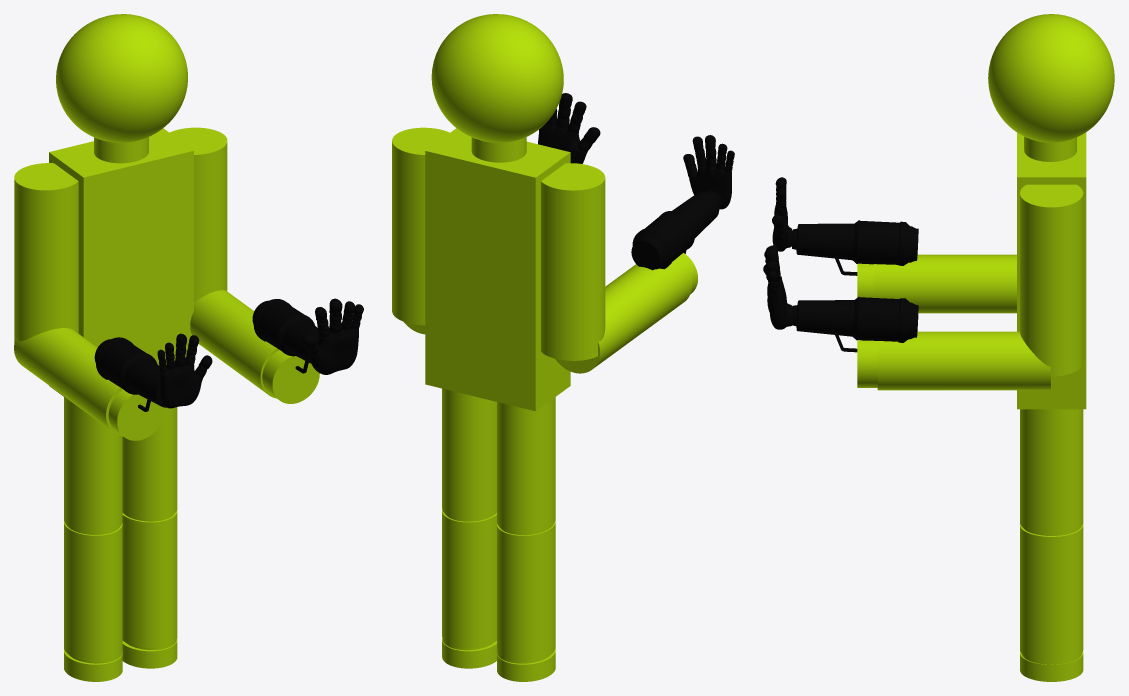
File: poppy_playtime__training_dummy__player.glb
3 views of the same model, side by side, from view 1: azimuth 30°, elevation 25°; view 2: azimuth 150°, elevation 25°; view 3: azimuth 270°, elevation 25° (orthographic).
Visible parts, largest first — view 1: node_id36_37, node_id27_28, node_id30_31, node_id15_14, node_id12_12, node_id42_32, node_id33_33, node_id81_57, node_id45_41, node_id85_60, node_id77_23, node_id66_51 (+7 smaller); view 2: node_id36_37, node_id27_28, node_id30_31, node_id15_14, node_id42_32, node_id12_12, node_id33_33, node_id45_41, node_id81_57, node_id66_51, node_id61_47, node_id77_23 (+3 smaller); view 3: node_id27_28, node_id33_33, node_id85_60, node_id12_12, node_id45_41, node_id81_57, node_id36_37, node_id66_51, node_id72_19, node_id77_23, node_id6_0, node_id61_47 (+3 smaller).
Part boxes in pixels (bbox=[...]): node_id36_37: bbox=[49, 128, 193, 411]; node_id27_28: bbox=[56, 14, 187, 142]; node_id30_31: bbox=[14, 163, 78, 342]; node_id15_14: bbox=[64, 521, 122, 661]; node_id12_12: bbox=[122, 510, 177, 648]; node_id42_32: bbox=[64, 397, 122, 533]; node_id33_33: bbox=[169, 127, 227, 302]; node_id81_57: bbox=[14, 328, 122, 436]; node_id45_41: bbox=[122, 407, 177, 519]; node_id85_60: bbox=[190, 290, 279, 398]; node_id77_23: bbox=[302, 298, 363, 374]; node_id66_51: bbox=[94, 337, 165, 411]; node_id36_37: bbox=[425, 128, 570, 411]; node_id27_28: bbox=[431, 14, 563, 142]; node_id30_31: bbox=[541, 163, 605, 360]; node_id15_14: bbox=[497, 521, 555, 661]; node_id42_32: bbox=[497, 397, 555, 533]; node_id12_12: bbox=[442, 510, 496, 648]; node_id33_33: bbox=[392, 127, 449, 325]; node_id45_41: bbox=[442, 388, 496, 519]; node_id81_57: bbox=[555, 257, 691, 373]; node_id66_51: bbox=[631, 192, 719, 270]; node_id61_47: bbox=[683, 135, 734, 209]; node_id77_23: bbox=[538, 93, 600, 163]; node_id27_28: bbox=[988, 14, 1114, 142]; node_id33_33: bbox=[1020, 184, 1083, 376]; node_id85_60: bbox=[877, 331, 1050, 390]; node_id12_12: bbox=[1020, 524, 1083, 661]; node_id45_41: bbox=[1020, 409, 1083, 534]; node_id81_57: bbox=[874, 254, 1016, 313]; node_id36_37: bbox=[1017, 132, 1086, 409]; node_id66_51: bbox=[792, 220, 918, 275]; node_id72_19: bbox=[793, 297, 918, 352]; node_id77_23: bbox=[763, 245, 793, 329]; node_id6_0: bbox=[1020, 652, 1083, 681]; node_id61_47: bbox=[772, 177, 792, 251].
Size of the model in its own units: 0.495 by 1.46 by 0.7325.
23 materials, 23 textured.
